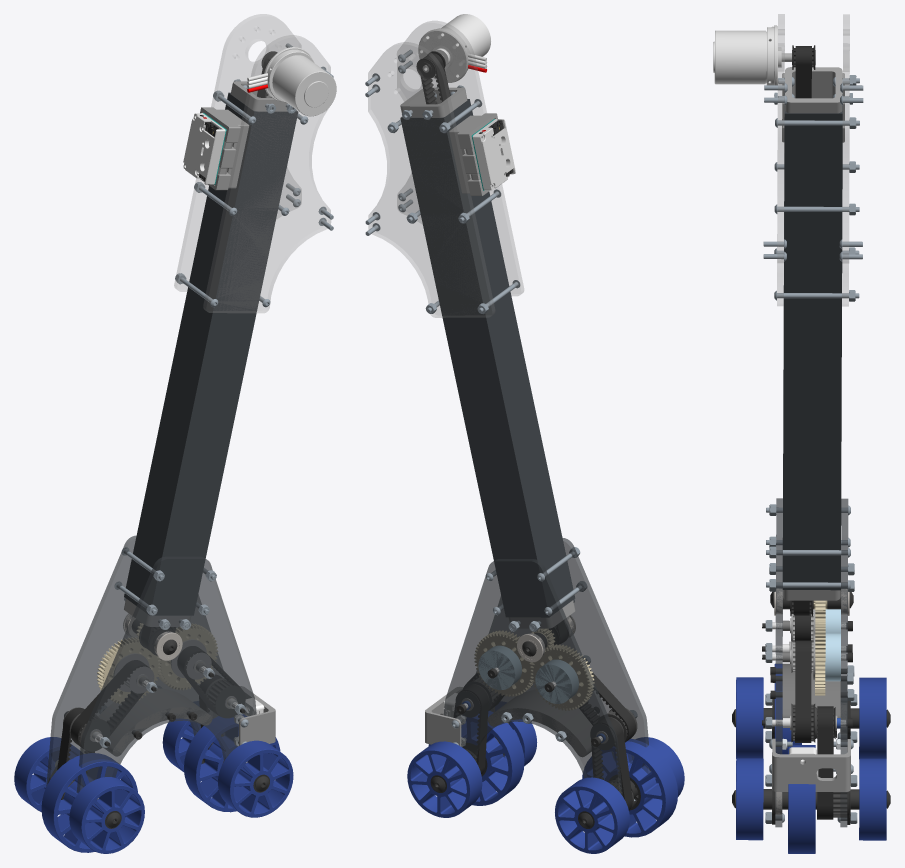
3 views of the same model, side by side, from view 1: azimuth 30°, elevation 25°; view 2: azimuth 150°, elevation 25°; view 3: azimuth 270°, elevation 25° (orthographic). The views are drawn at different scales.
Parts seen in each view (by area): view 1: 4322-AM-01-CF_TUBE, 4322-EF-01-CLAW_PLATE (×2), 4322-AM-02-ARM_PLATE (×2), 3" Compliant Wheel (50A, 1" Wide, 1/2" Hex Bore) (×4), 4" Compliant Wheel (50A, 1" Wide, 1/2" Hex Bore) (×2), 013-1-00-P-01-01, 4322-EF-02-CORAL_CRADLE, 54t Aluminum MotionX Spur Gear (20 DP, SplineXL Bore) (×2), 50T 5M 15mm Wide Belt (×2), Nitrate Brushless Motor Controller, Nitrate cover, 4322-EF-05-18T_PULLEY (×2) (+4 smaller); view 2: 4322-AM-01-CF_TUBE, 4322-EF-01-CLAW_PLATE (×2), 4322-AM-02-ARM_PLATE (×2), 3" Compliant Wheel (50A, 1" Wide, 1/2" Hex Bore) (×4), 4" Compliant Wheel (50A, 1" Wide, 1/2" Hex Bore) (×2), 50T 5M 15mm Wide Belt (×3), 013-1-00-P-01-01, 54t Aluminum MotionX Spur Gear (20 DP, SplineXL Bore) (×2), 4322-EF-09-0.5135_ROUND_SPACER (×2), 4322-EF-02-CORAL_CRADLE, Nitrate Brushless Motor Controller, Nitrate cover (+4 smaller); view 3: 4322-AM-01-CF_TUBE, 3" Compliant Wheel (50A, 1" Wide, 1/2" Hex Bore) (×4), 4322-EF-01-CLAW_PLATE (×2), 4322-AM-02-ARM_PLATE (×2), 013-1-00-P-01-01, 4322-EF-03-SENSOR_BRACKET, 4322-AM-03-END_CAP (×2), 4" Compliant Wheel (50A, 1" Wide, 1/2" Hex Bore) (×2), Socket button head cap screw #10-32 x 3 (×5), 50T 5M 15mm Wide Belt (×2), 45T 5M 15mm Wide Belt, 4322-EF-02-CORAL_CRADLE (+5 smaller).
Boxes of the visible parts, left/top/right/bottom form: 4322-AM-01-CF_TUBE: left=124, top=92, right=298, bottom=615; 4322-EF-01-CLAW_PLATE (×2): left=46, top=535, right=256, bottom=793; 4322-AM-02-ARM_PLATE (×2): left=174, top=14, right=330, bottom=312; 3" Compliant Wheel (50A, 1" Wide, 1/2" Hex Bore) (×4): left=14, top=718, right=293, bottom=853; 4" Compliant Wheel (50A, 1" Wide, 1/2" Hex Bore) (×2): left=41, top=714, right=280, bottom=852; 013-1-00-P-01-01: left=264, top=47, right=336, bottom=116; 4322-EF-02-CORAL_CRADLE: left=98, top=688, right=211, bottom=756; 54t Aluminum MotionX Spur Gear (20 DP, SplineXL Bore) (×2): left=97, top=623, right=217, bottom=703; 50T 5M 15mm Wide Belt (×2): left=57, top=660, right=149, bottom=799; Nitrate Brushless Motor Controller: left=183, top=113, right=226, bottom=184; Nitrate cover: left=200, top=107, right=249, bottom=190; 4322-EF-05-18T_PULLEY (×2): left=63, top=678, right=245, bottom=751; 4322-AM-01-CF_TUBE: left=400, top=99, right=575, bottom=617; 4322-EF-01-CLAW_PLATE (×2): left=443, top=538, right=651, bottom=800; 4322-AM-02-ARM_PLATE (×2): left=368, top=21, right=523, bottom=317; 3" Compliant Wheel (50A, 1" Wide, 1/2" Hex Bore) (×4): left=407, top=719, right=684, bottom=853; 4" Compliant Wheel (50A, 1" Wide, 1/2" Hex Bore) (×2): left=428, top=711, right=677, bottom=837; 50T 5M 15mm Wide Belt (×3): left=453, top=670, right=635, bottom=810; 013-1-00-P-01-01: left=418, top=14, right=490, bottom=82; 54t Aluminum MotionX Spur Gear (20 DP, SplineXL Bore) (×2): left=474, top=630, right=594, bottom=710; 4322-EF-09-0.5135_ROUND_SPACER (×2): left=478, top=646, right=578, bottom=703; 4322-EF-02-CORAL_CRADLE: left=487, top=690, right=598, bottom=757; Nitrate Brushless Motor Controller: left=471, top=119, right=515, bottom=190; Nitrate cover: left=449, top=113, right=509, bottom=195; 4322-AM-01-CF_TUBE: left=782, top=78, right=842, bottom=590; 3" Compliant Wheel (50A, 1" Wide, 1/2" Hex Bore) (×4): left=736, top=677, right=886, bottom=840; 4322-EF-01-CLAW_PLATE (×2): left=775, top=498, right=848, bottom=827; 4322-AM-02-ARM_PLATE (×2): left=777, top=14, right=849, bottom=306; 013-1-00-P-01-01: left=713, top=25, right=791, bottom=85; 4322-EF-03-SENSOR_BRACKET: left=772, top=738, right=850, bottom=791; 4322-AM-03-END_CAP (×2): left=783, top=67, right=842, bottom=600; 4" Compliant Wheel (50A, 1" Wide, 1/2" Hex Bore) (×2): left=774, top=663, right=815, bottom=853; Socket button head cap screw #10-32 x 3 (×5): left=766, top=118, right=859, bottom=589; 50T 5M 15mm Wide Belt (×2): left=795, top=614, right=833, bottom=819; 45T 5M 15mm Wide Belt: left=795, top=640, right=811, bottom=742; 4322-EF-02-CORAL_CRADLE: left=782, top=663, right=840, bottom=719.
Bounding box in the file's own units: 0.3337 × 0.8757 × 0.1647.
